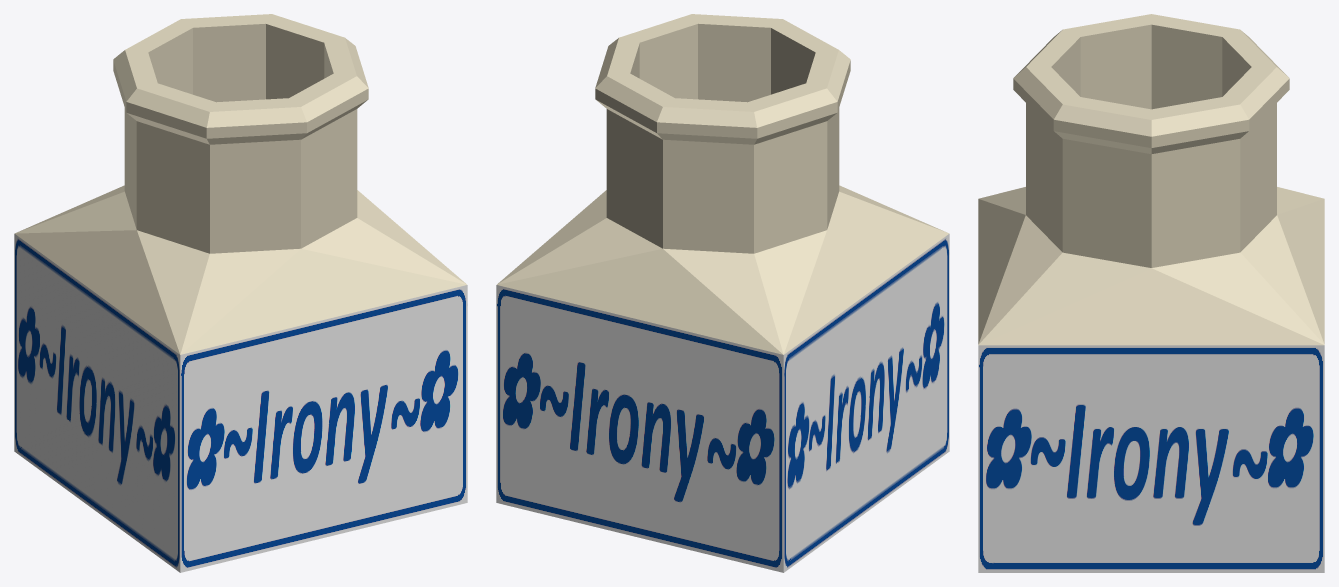
Rendered from irony.fbx.
3 views of the same model, side by side, from view 1: azimuth 30°, elevation 25°; view 2: azimuth 150°, elevation 25°; view 3: azimuth 270°, elevation 25° (orthographic). The views are drawn at different scales.
Visible parts, largest first — view 1: Irony; view 2: Irony; view 3: Irony.
Part boxes in pixels (bbox=[...]): Irony: bbox=[14, 14, 467, 572]; Irony: bbox=[496, 14, 949, 572]; Irony: bbox=[978, 14, 1324, 572].
Bounding box in the file's own units: 276 × 380 × 276.
